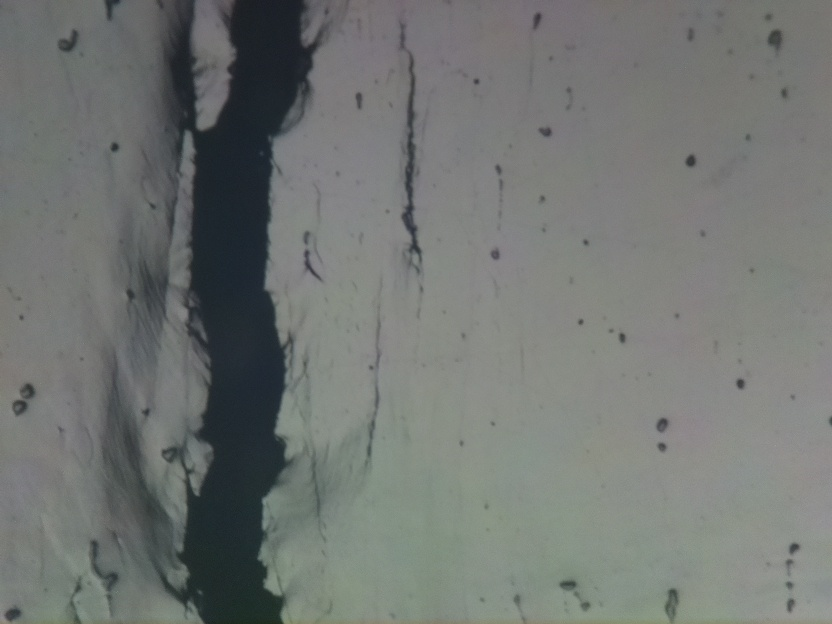crack: (172, 0, 311, 624), (394, 21, 431, 270)
